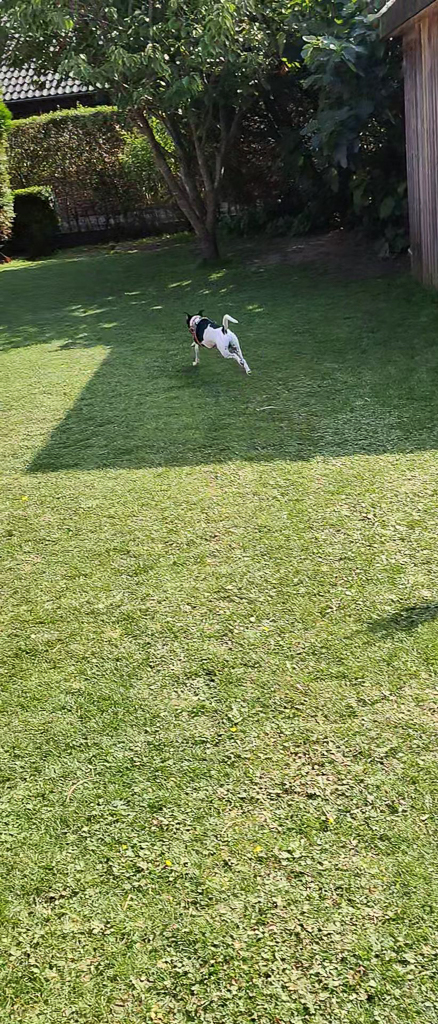Dog: (179, 305, 262, 380)
